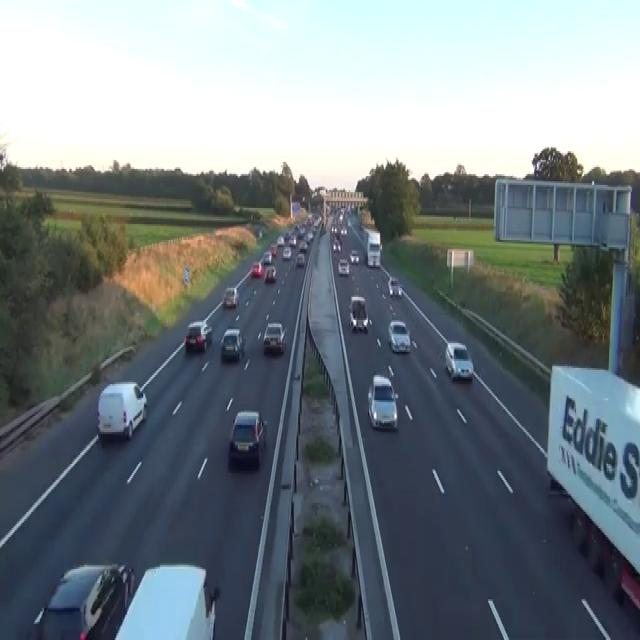Car: (569, 499, 639, 614), (31, 562, 134, 638), (96, 381, 147, 439), (228, 409, 267, 467), (367, 374, 398, 431), (444, 342, 473, 381), (618, 562, 639, 613), (184, 320, 212, 352), (220, 327, 245, 361), (388, 318, 411, 354), (348, 295, 368, 333), (263, 322, 286, 354), (223, 286, 239, 308), (388, 275, 403, 297), (367, 245, 380, 267), (337, 258, 349, 276), (251, 262, 263, 278), (265, 265, 276, 281), (349, 249, 359, 263), (282, 246, 291, 260), (262, 251, 272, 263), (296, 252, 304, 266), (332, 240, 341, 251), (319, 222, 326, 235), (299, 240, 307, 251), (270, 244, 277, 256), (276, 235, 284, 245), (288, 235, 296, 245), (306, 231, 313, 242), (284, 229, 290, 240), (340, 226, 347, 234), (258, 228, 262, 238)
Truck: (546, 363, 639, 615), (113, 562, 216, 638), (365, 228, 382, 266)
